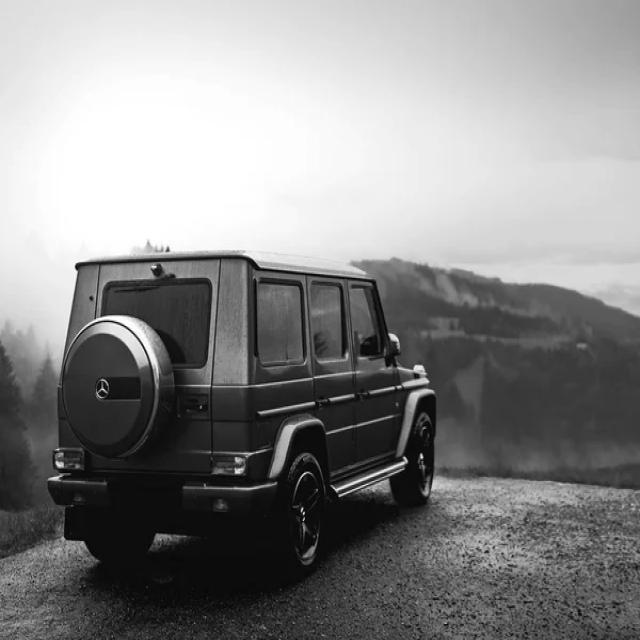Car: (47, 251, 436, 571)
